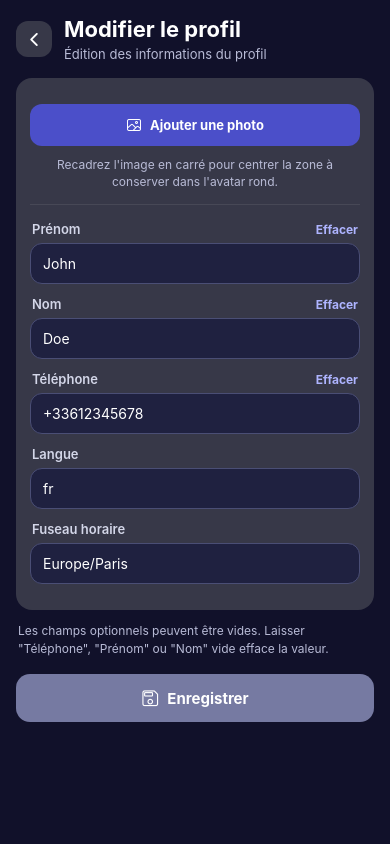
Test: ProfileEditScreen › clears firstName when "Effacer" is pressed for firstName
The width and height of the screenshot is (390, 844).
There are multiple "Effacer" buttons, first one is for firstName
Click the 1st text "Effacer": (337, 229) [316,222,358,236]
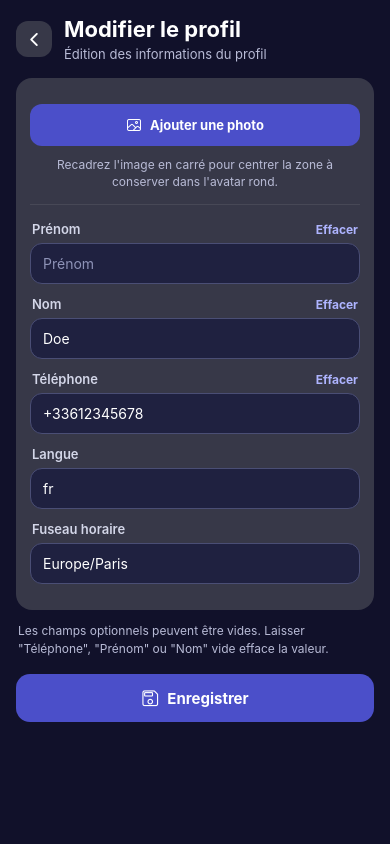
Check: the field with test id "input-firstName" is empty, box [30,243,360,284]
